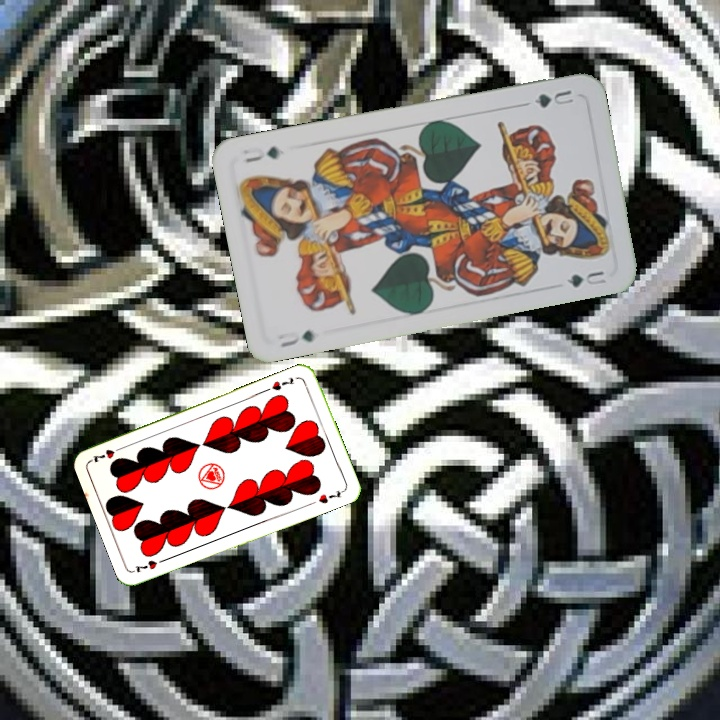GU: (530, 85, 576, 111), (274, 326, 316, 350)
H7: (130, 554, 169, 575), (268, 373, 297, 393)
